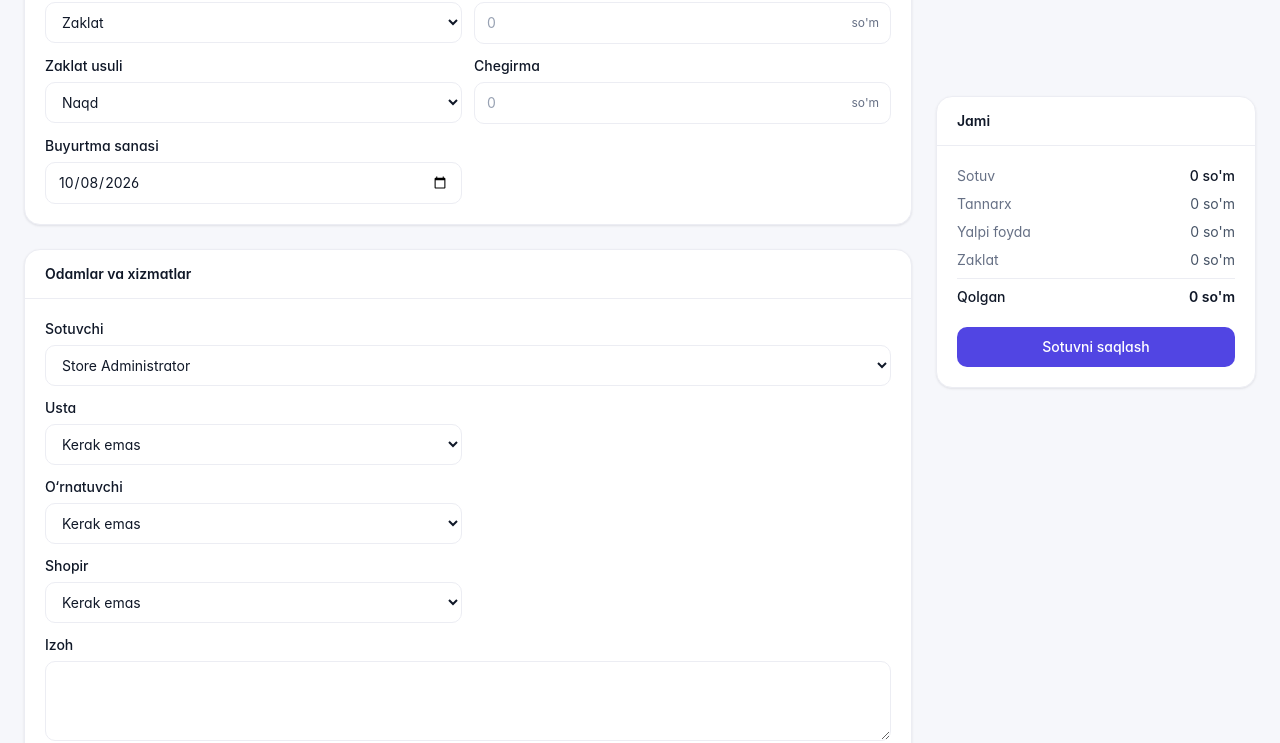
Scenario: NewSalePage › shows delivery fee only after shopir is selected
(page scrolled)
Select "Azizbek Shopir" in the dropdown with test id "sale-delivery-select": {"x": 254, "y": 602} [45,582,462,623]
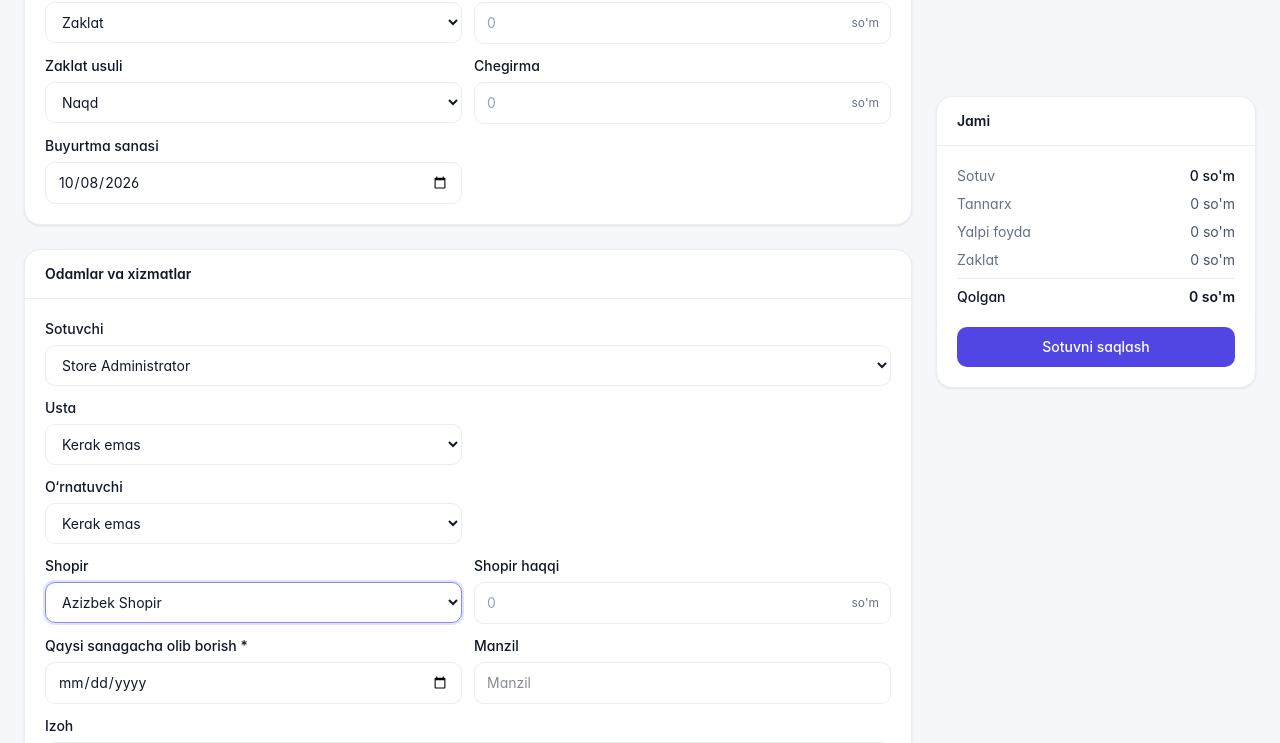
Result: the element with test id "sale-delivery-fee" is shown at [474,556,891,624]
Result: the text "Shopir haqqi" is shown at [474,557,559,574]
